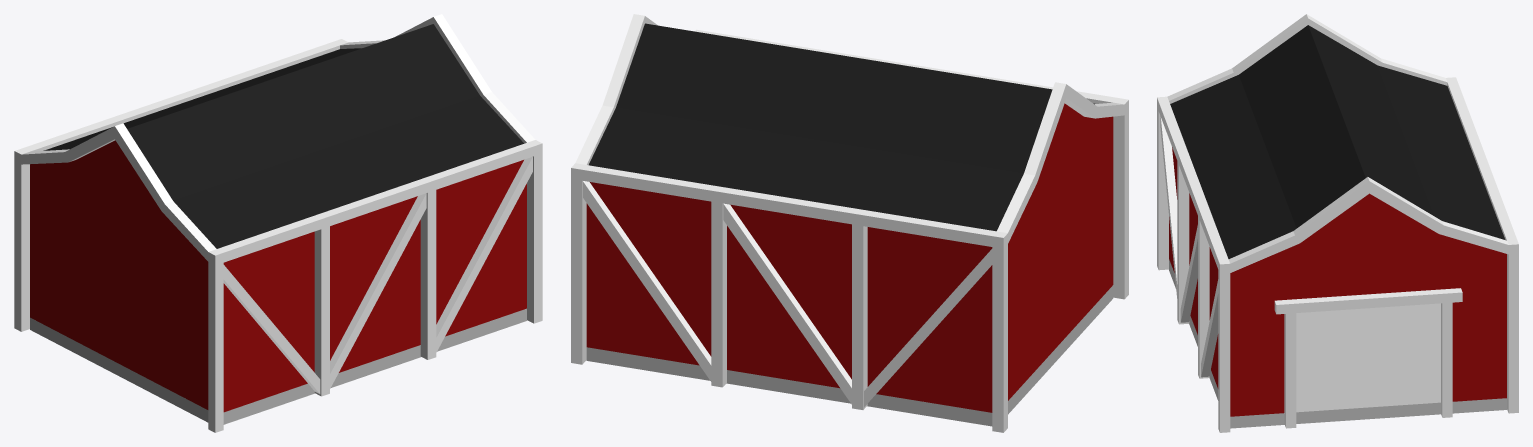
Rendered from Farm House(2).fbx.
3 views of the same model, side by side, from view 1: azimuth 30°, elevation 25°; view 2: azimuth 150°, elevation 25°; view 3: azimuth 270°, elevation 25° (orthographic). The views are drawn at different scales.
Visible parts, largest first — view 1: Cube.001, Cube.336, Cube.000, Cube.003; view 2: Cube.001, Cube.336, Cube.000, Cube.003; view 3: Cube.336, Cube.001, Cube.000, Cube.003.
Boxes of the visible parts, <box> form: Cube.001: <box>30,140,526,412</box>; Cube.336: <box>43,24,523,248</box>; Cube.000: <box>14,14,542,432</box>; Cube.003: <box>30,308,526,424</box>; Cube.001: <box>586,103,1113,412</box>; Cube.336: <box>589,23,1094,231</box>; Cube.000: <box>571,14,1128,432</box>; Cube.003: <box>586,285,1113,426</box>; Cube.336: <box>1170,25,1505,258</box>; Cube.001: <box>1169,147,1506,416</box>; Cube.000: <box>1157,14,1518,432</box>; Cube.003: <box>1169,259,1506,428</box>.
Size of the model in its own units: 6817 by 4118 by 5570.
